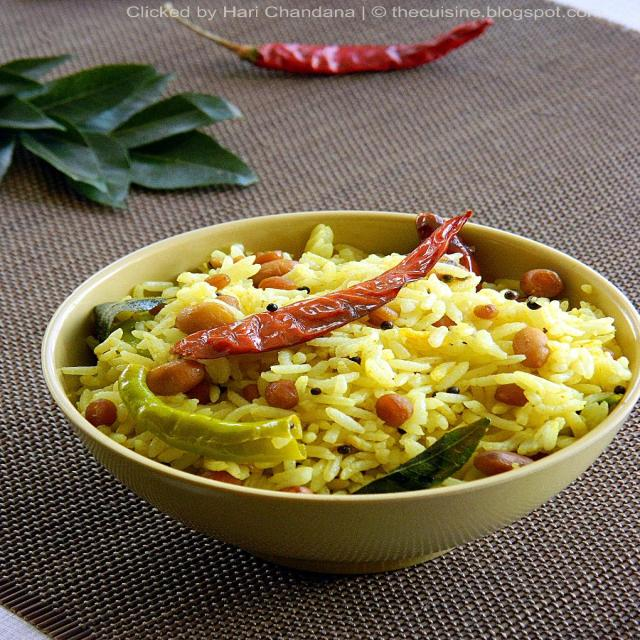puliyogare: (45, 203, 640, 529)
